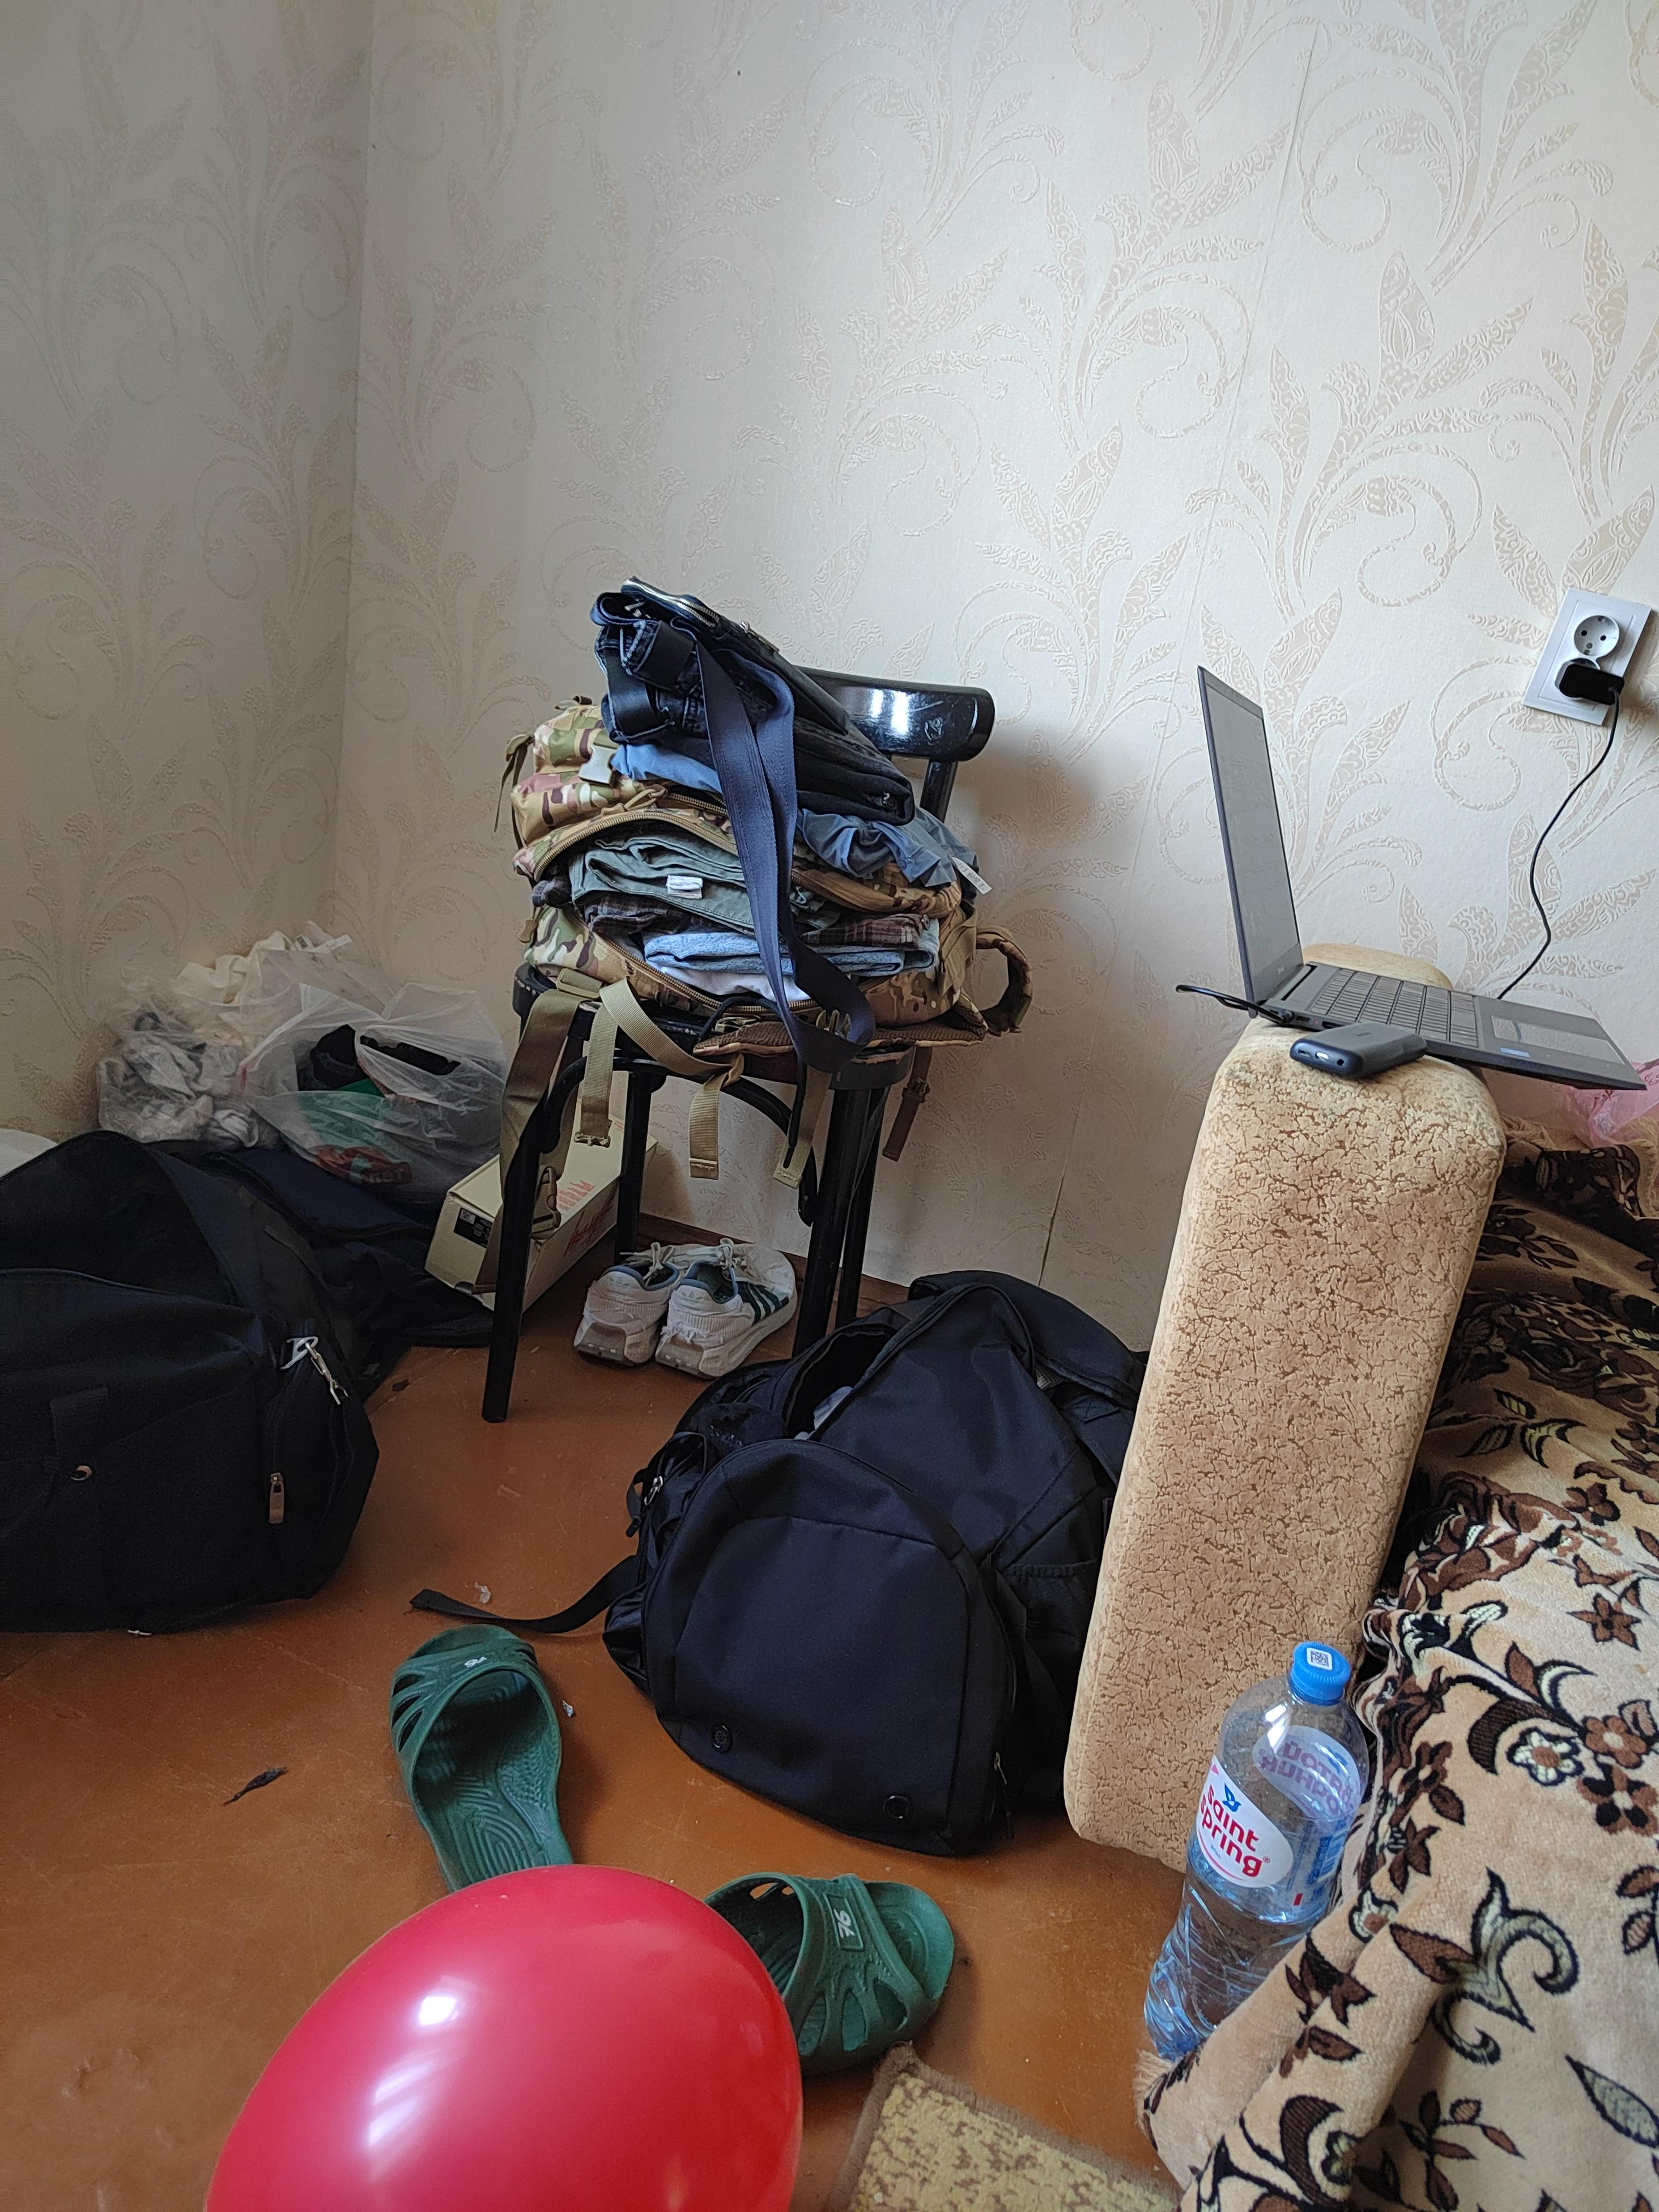red: (153, 1843, 836, 2212)
